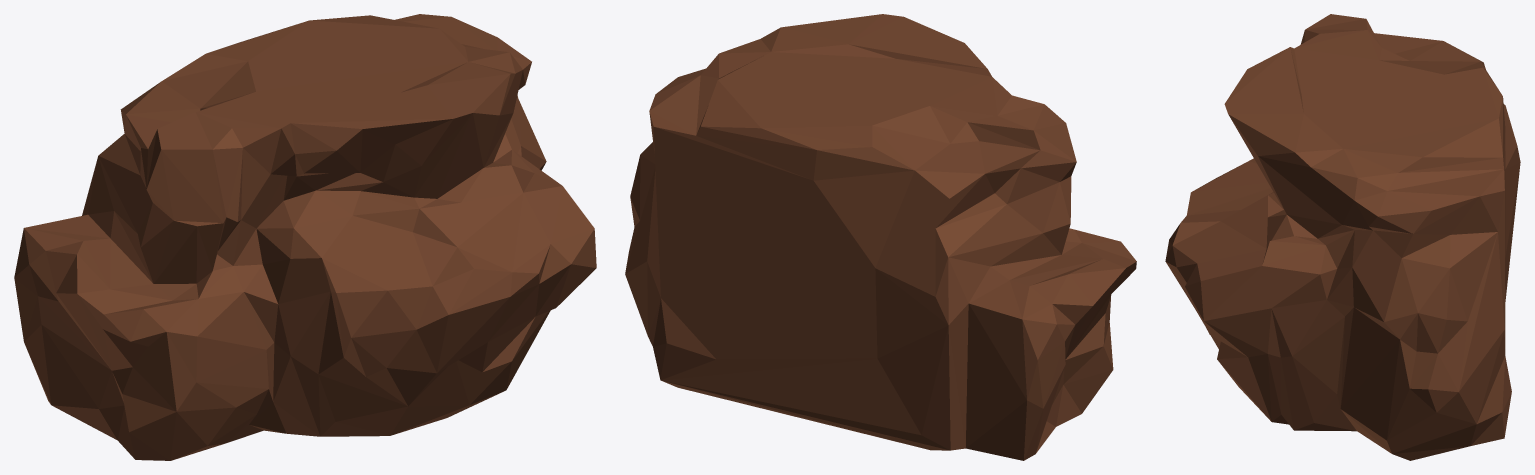
File: SM_cliff_01.fbx
3 views of the same model, side by side, from view 1: azimuth 30°, elevation 25°; view 2: azimuth 150°, elevation 25°; view 3: azimuth 270°, elevation 25° (orthographic). The views are drawn at different scales.
Visible parts, largest first — view 1: cliff_01; view 2: cliff_01; view 3: cliff_01.
Boxes of the visible parts, left/top/right/bottom form: cliff_01: left=14, top=14, right=596, bottom=460; cliff_01: left=625, top=14, right=1136, bottom=460; cliff_01: left=1165, top=14, right=1520, bottom=460.
Bounding box in the file's own units: 3305 × 2139 × 2235.
